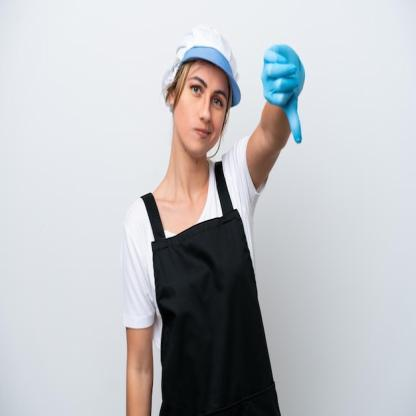thumb_down: (258, 42, 306, 148)
